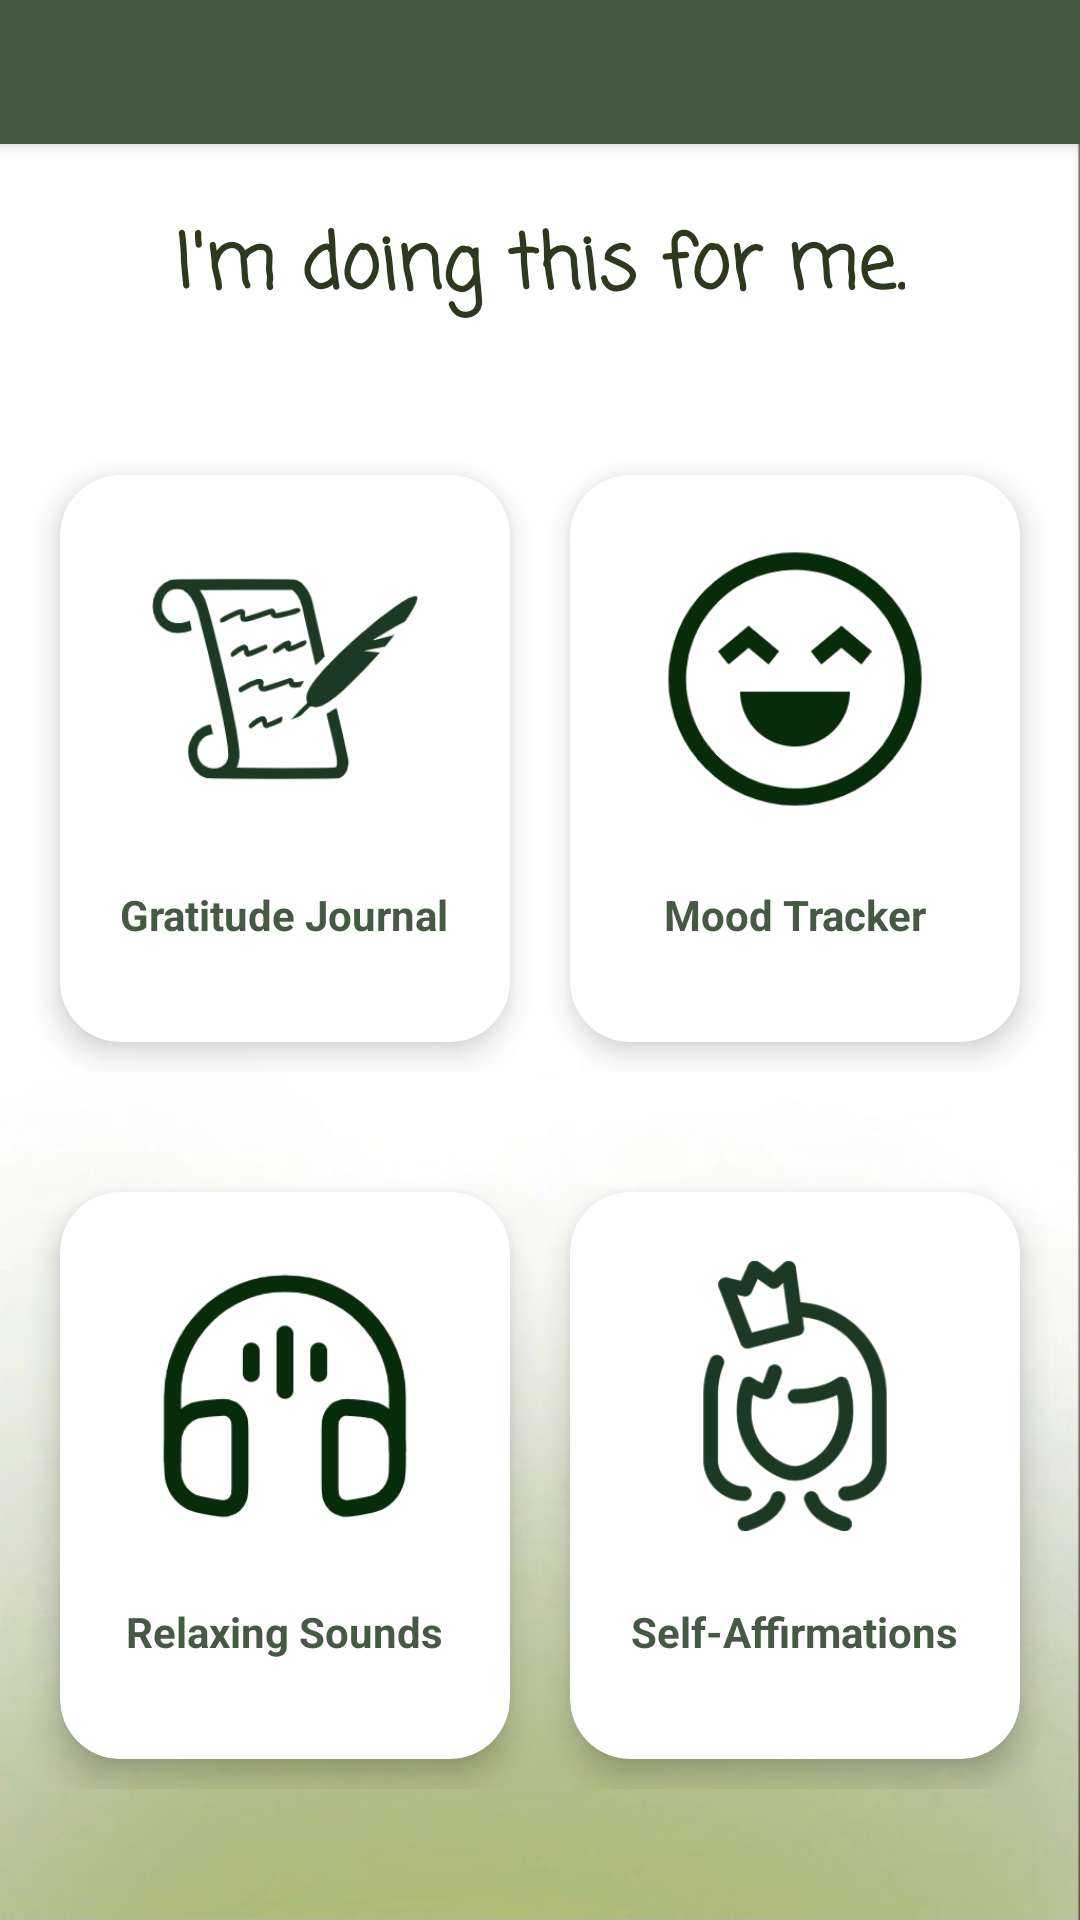

Screen size 1080px x 1920px. Icon name, then its center in pixels as (x,y):
note: (285,679)
